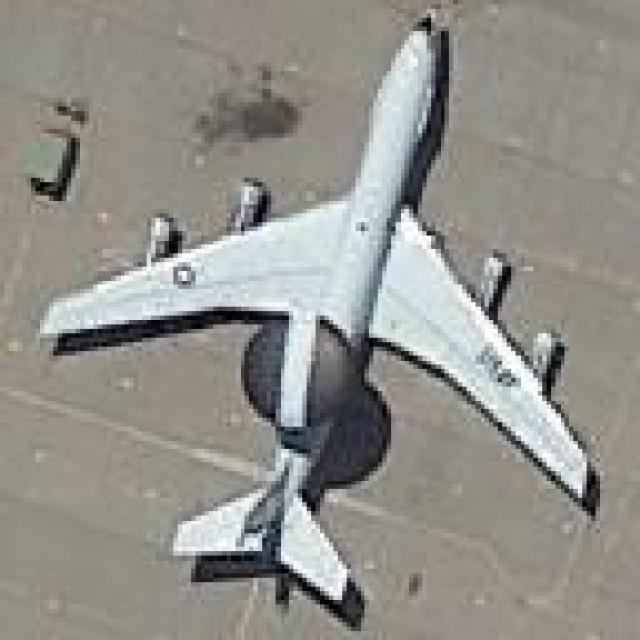E-3_TopDown: (31, 9, 600, 627)
